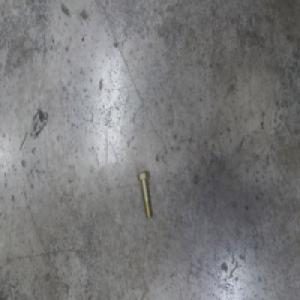Bolt: (137, 168, 153, 218)
